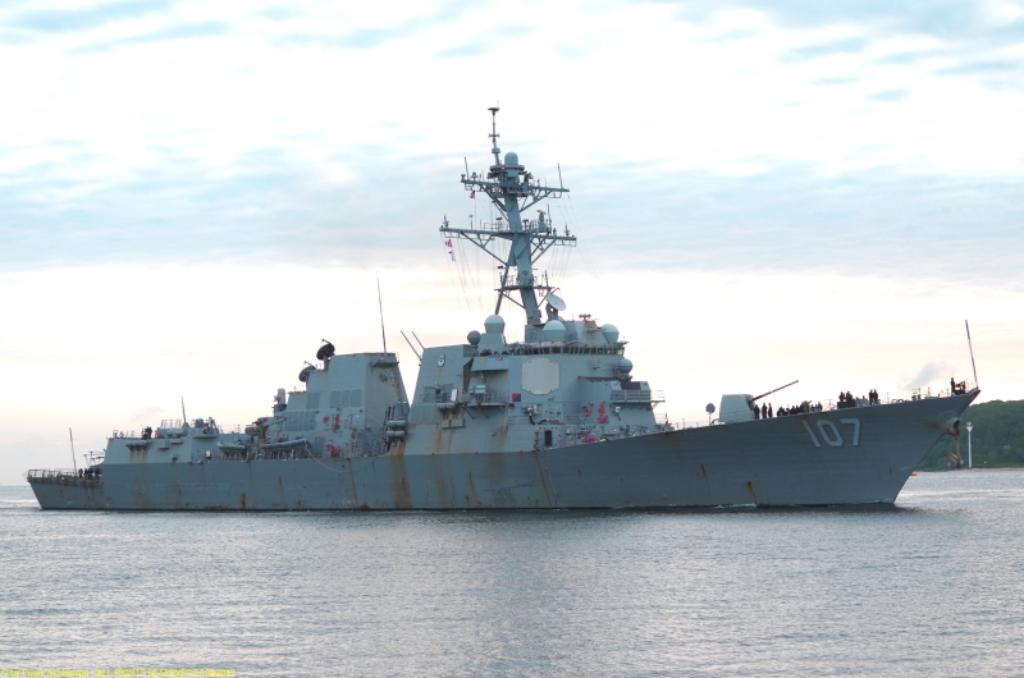Warship: (20, 98, 986, 510)
